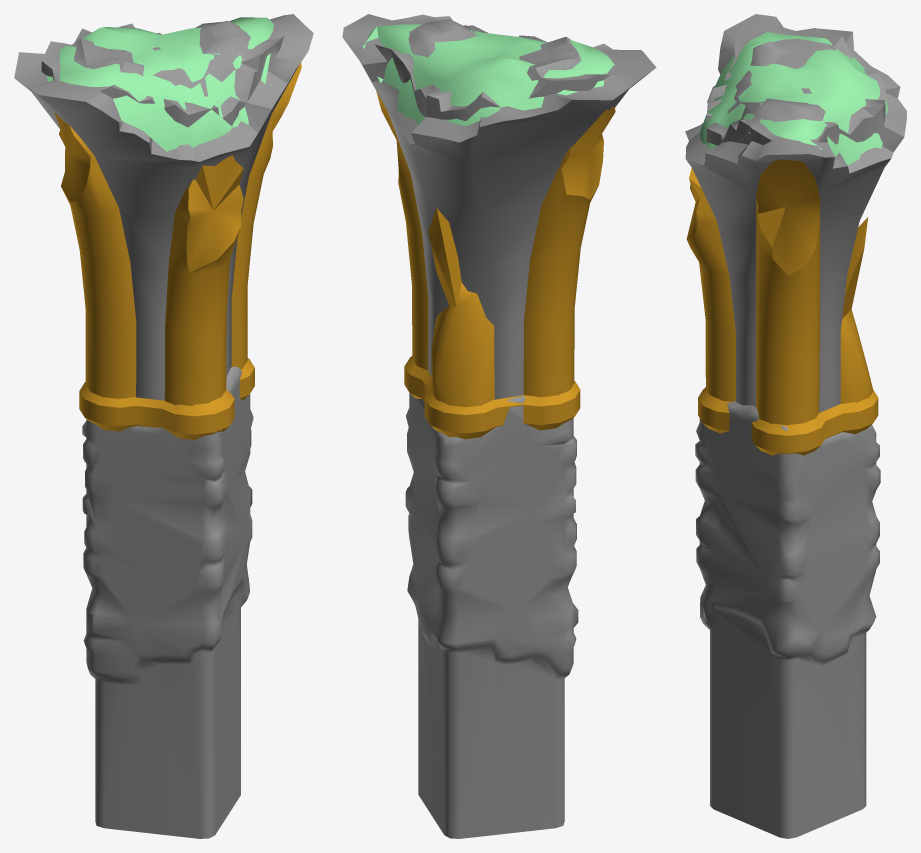
The model's file is SM_Pillar_A.fbx.
The picture shows the model from 3 angles, left to right: view 1: azimuth 30°, elevation 25°; view 2: azimuth 150°, elevation 25°; view 3: azimuth 270°, elevation 25°; orthographic projection. The views are drawn at different scales.
Visible parts, largest first — view 1: SM_Pillar_A_LOD0; view 2: SM_Pillar_A_LOD0; view 3: SM_Pillar_A_LOD0.
Part boxes in pixels (box(x1,y1,x2,y2)): SM_Pillar_A_LOD0: box(14, 14, 313, 838); SM_Pillar_A_LOD0: box(342, 14, 656, 838); SM_Pillar_A_LOD0: box(685, 14, 906, 838).
Size of what is drawn, in the model's own units: 188 by 490 by 134.
